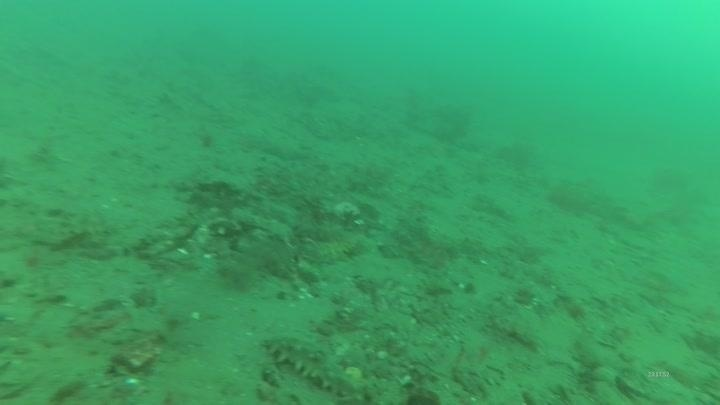holothurian: (260, 332, 372, 402)
